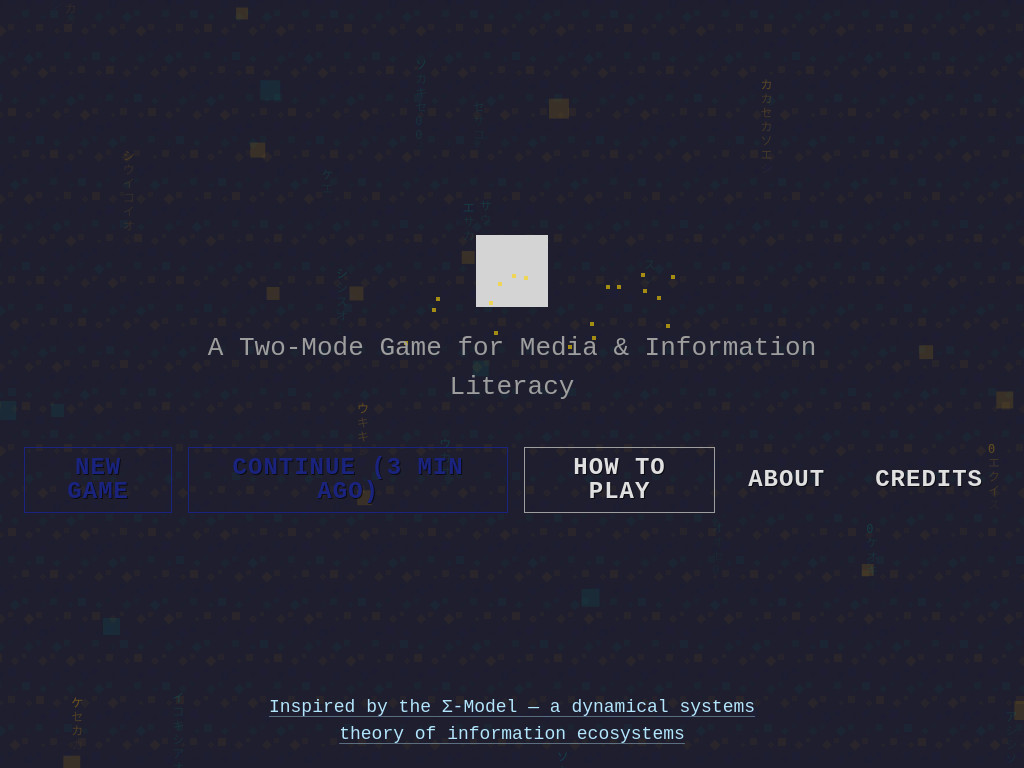
Test: TitleScreen › closes New Game confirmation on Cancel
This screenshot has width=1024, height=768.
Click the button "New Game" at (98, 480), box x1=24 y1=447 x2=172 y2=513
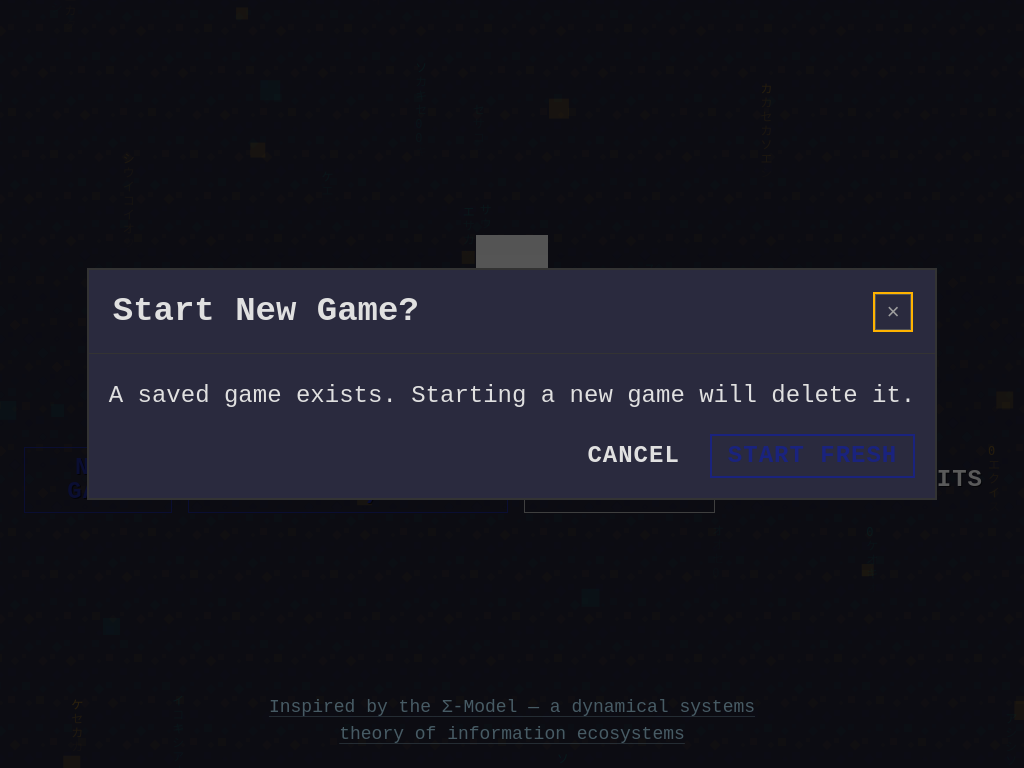
Expected: the heading "Start New Game?" is shown, x1=113 y1=286 x2=419 y2=337
Click the button "Cancel" at (634, 456), box x1=569 y1=434 x2=698 y2=478
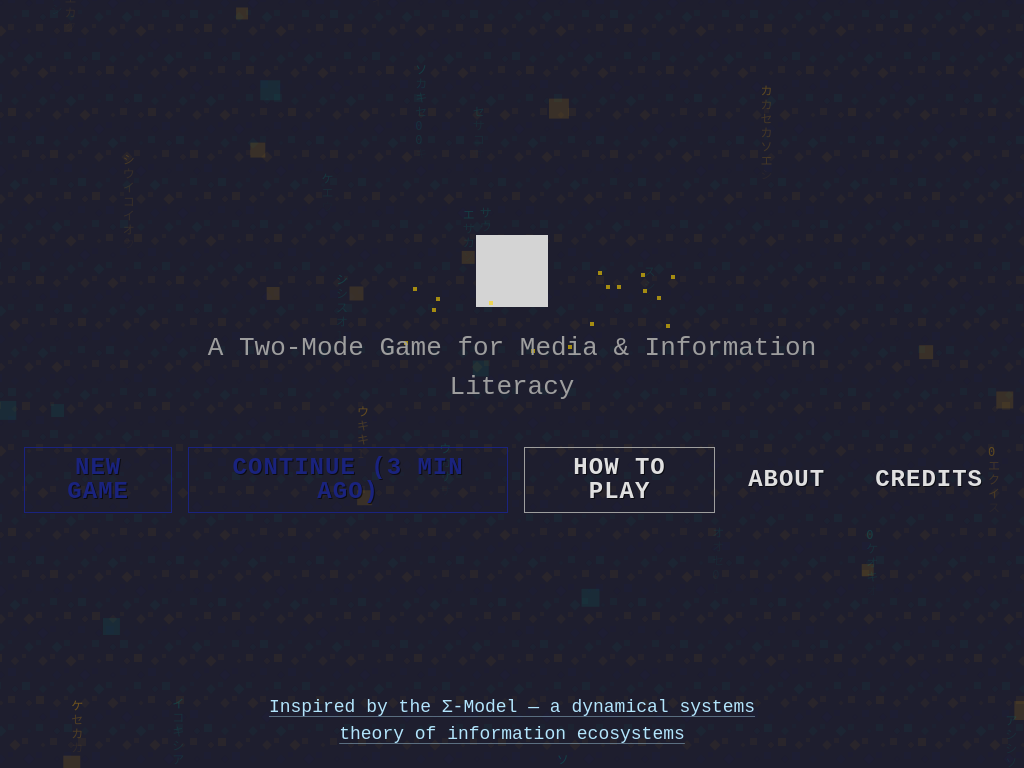
Expected: the heading "Start New Game?" is gone
